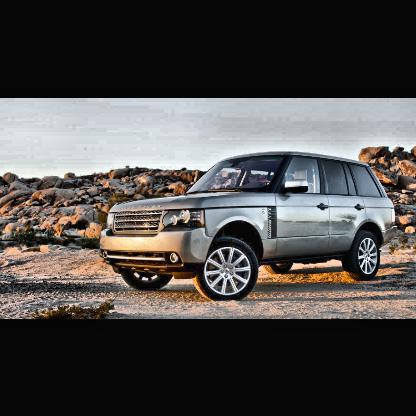Land Rover Range Rover SUV 2012: (100, 151, 399, 302)
